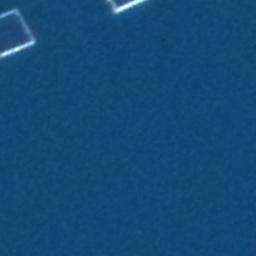square_solid: (1, 4, 39, 60), (98, 1, 155, 17)
